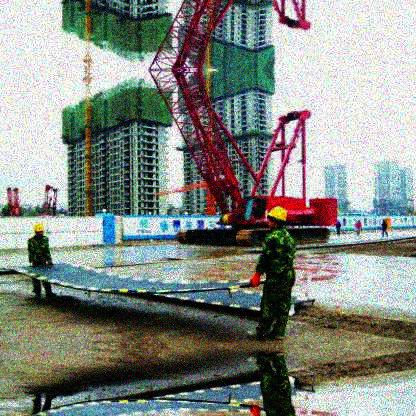helmet: (267, 206, 287, 229), (33, 224, 45, 237)
